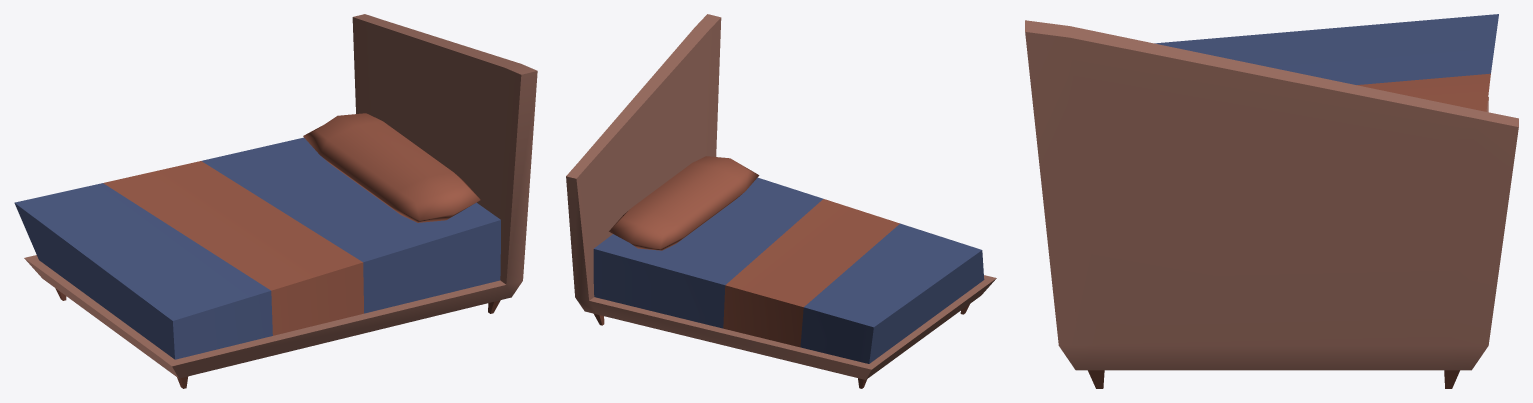
The model's file is GGJ_room_bed_big.fbx.
3 views of the same model, side by side, from view 1: azimuth 30°, elevation 25°; view 2: azimuth 150°, elevation 25°; view 3: azimuth 270°, elevation 25° (orthographic). The views are drawn at different scales.
Visible parts, largest first — view 1: bed_mattress, bed_base, bed_pillow; view 2: bed_mattress, bed_base, bed_pillow; view 3: bed_base, bed_mattress.
Part boxes in pixels (x1,y1,x2,y2): bed_mattress: (14, 137, 500, 359); bed_base: (24, 14, 537, 388); bed_pillow: (303, 113, 480, 222); bed_mattress: (593, 177, 984, 363); bed_base: (566, 14, 996, 388); bed_pillow: (609, 156, 759, 250); bed_base: (1025, 20, 1518, 388); bed_mattress: (1154, 14, 1498, 111).
Size of the model in its own units: 1.99 by 1.35 by 1.62.
